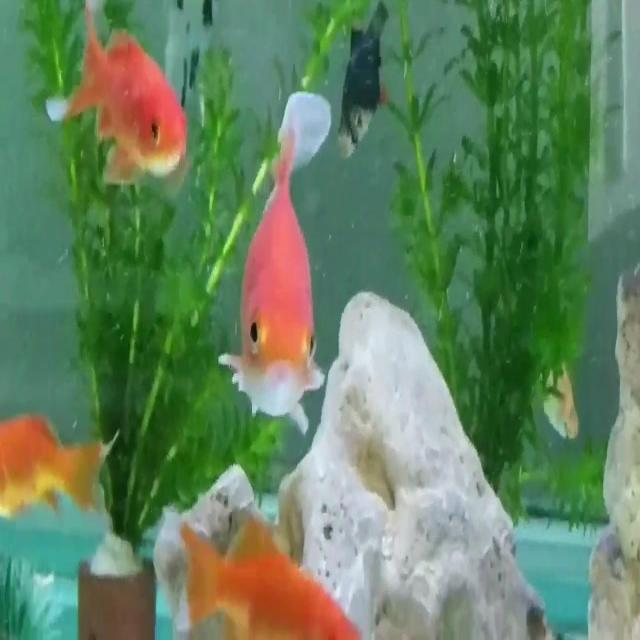GoldFish: (217, 125, 341, 442), (40, 2, 195, 210)
